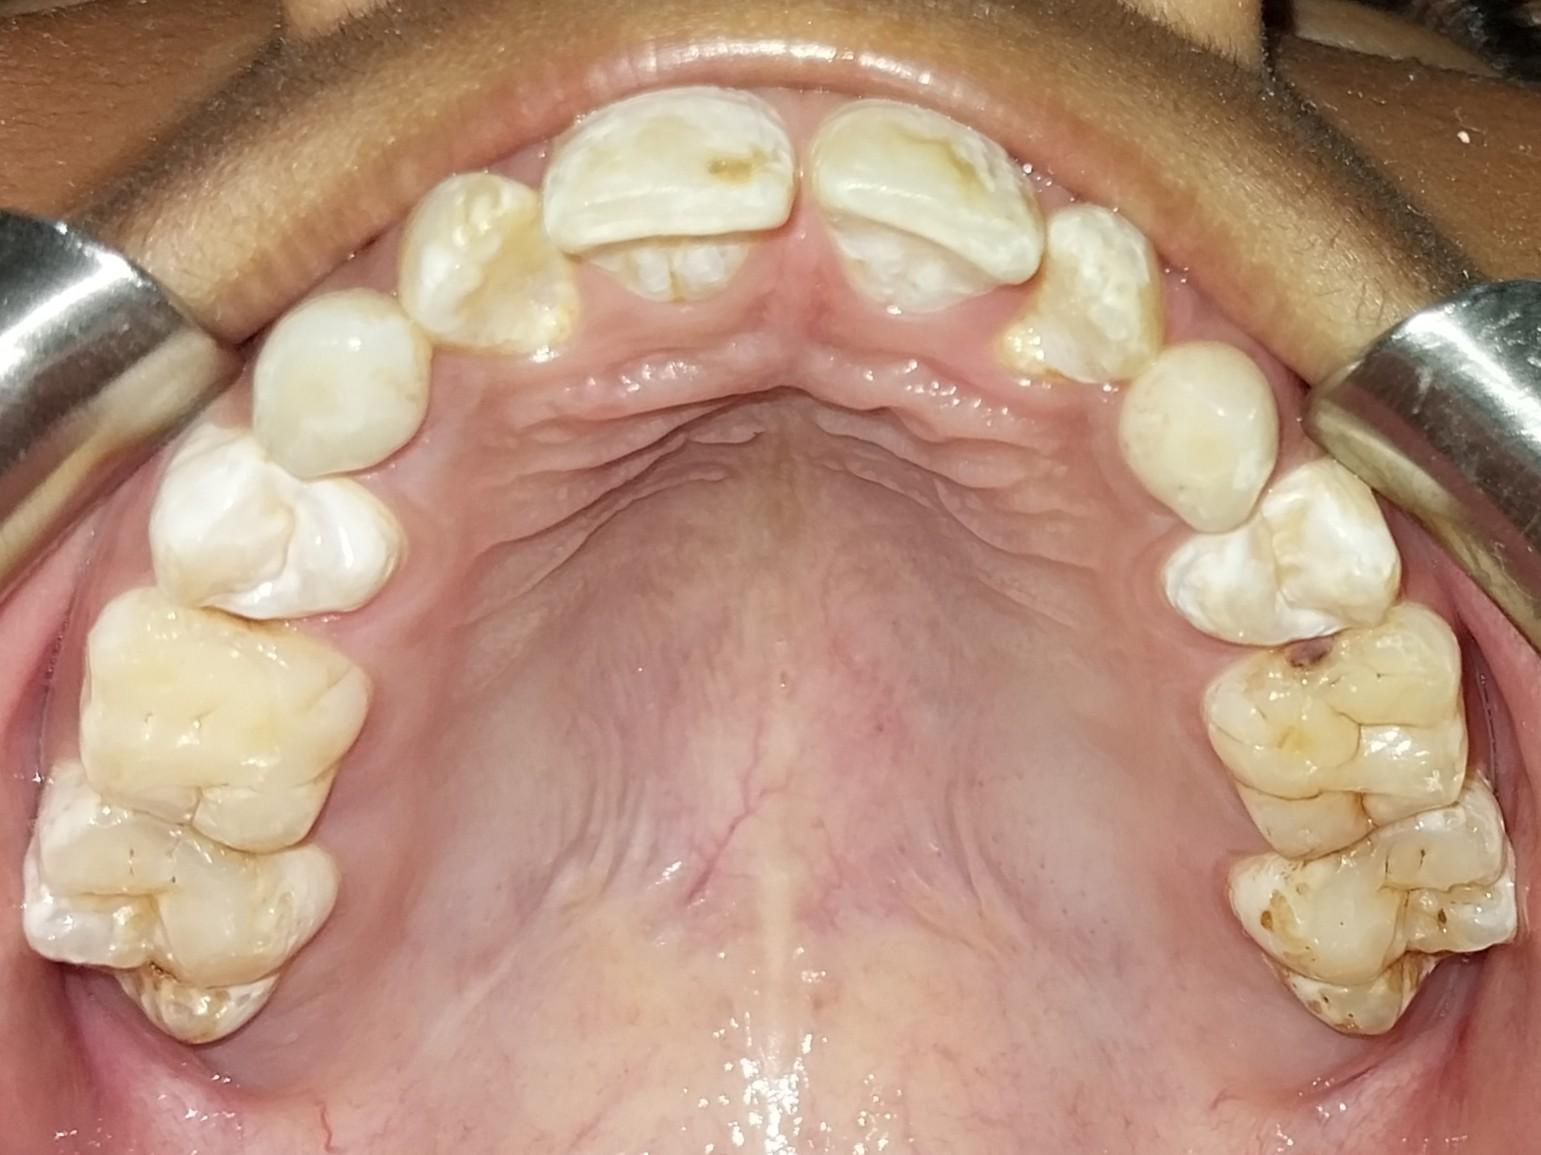D: (1201, 628, 1464, 857)
